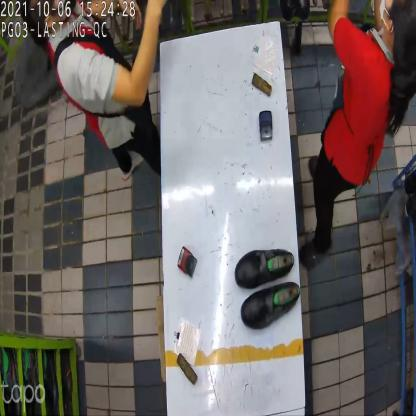shoes: (238, 249, 300, 330)
stamp: (176, 244, 198, 279), (257, 106, 276, 144)
